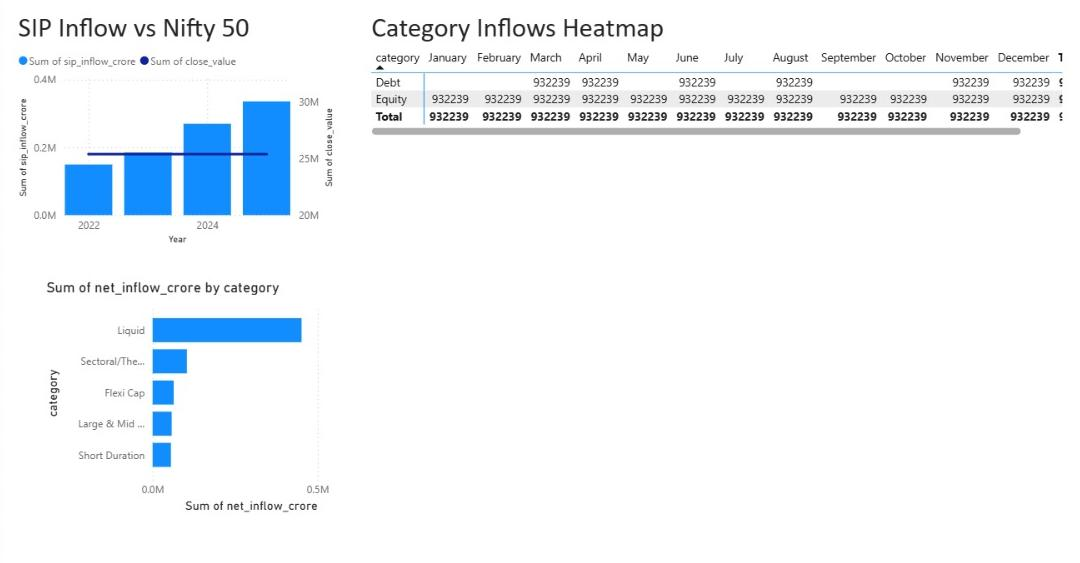

Layout of this report page (visuals, bound fields, positions):
{"tool":"powerbi","page":{"name":"SIP & Market Trends","canvas":[1280,720],"ordinal":3},"visuals":[{"type":"lineClusteredColumnComboChart","title":"SIP Inflow vs Nifty 50","fields":{"Category":["04_monthly_sip_inflows_clean.month.Variation.Date Hierarchy.Year","04_monthly_sip_inflows_clean.month.Variation.Date Hierarchy.Quarter","04_monthly_sip_inflows_clean.month.Variation.Date Hierarchy.Month","04_monthly_sip_inflows_clean.month.Variation.Date Hierarchy.Day"],"Y2":["Sum(10_benchmark_indices_clean.close_value)"],"Y":["Sum(04_monthly_sip_inflows_clean.sip_inflow_crore)"]},"box":[17.5,28.8,381.2,280],"z":0},{"type":"clusteredBarChart","fields":{"Category":["05_category_inflows_clean.category"],"Y":["Sum(05_category_inflows_clean.net_inflow_crore)"]},"box":[50,343.8,381.2,280],"z":1000},{"type":"pivotTable","title":"Category Inflows Heatmap","fields":{"Rows":["01_fund_master_clean.category"],"Columns":["01_fund_master_clean.launch_date.Variation.Date Hierarchy.Month"],"Values":["Sum(05_category_inflows_clean.net_inflow_crore)"]},"box":[431.1,28.9,821.1,151.1],"z":2000}]}

Visuals, with their boxes on the page's 1280x720 design canvas (x1, y1, x2, y2). These are canvas units, not pixel positions in the 1080x563 screenshot, which may show the page scaled, cropped or inside an application window:
"SIP Inflow vs Nifty 50" lineClusteredColumnComboChart: region(18, 29, 399, 309)
clusteredBarChart - 05_category_inflows_clean.category x Sum(05_category_inflows_clean.net_inflow_crore): region(50, 344, 431, 624)
"Category Inflows Heatmap" pivotTable: region(431, 29, 1252, 180)
